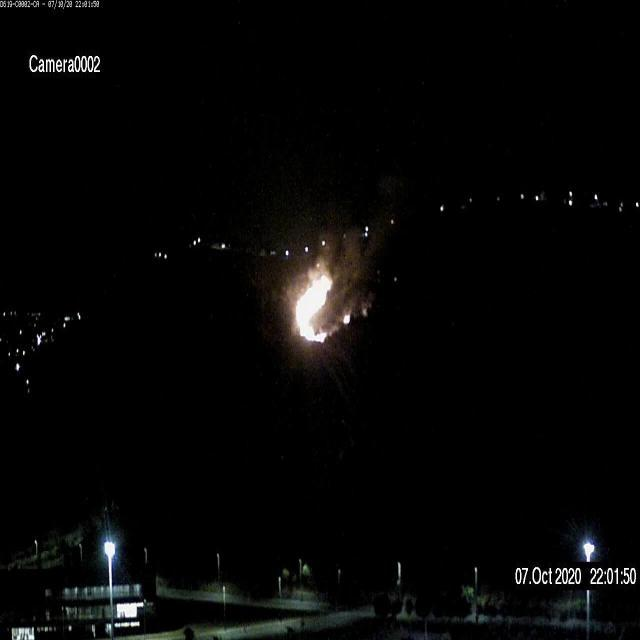Fire: (291, 266, 343, 346)
